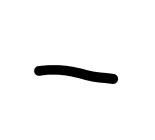minus: (35, 64, 118, 85)
